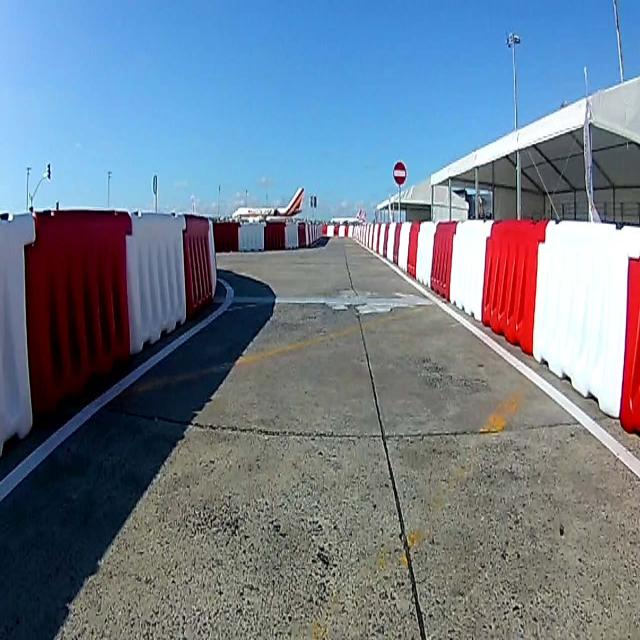girisyok: (393, 160, 407, 187)
